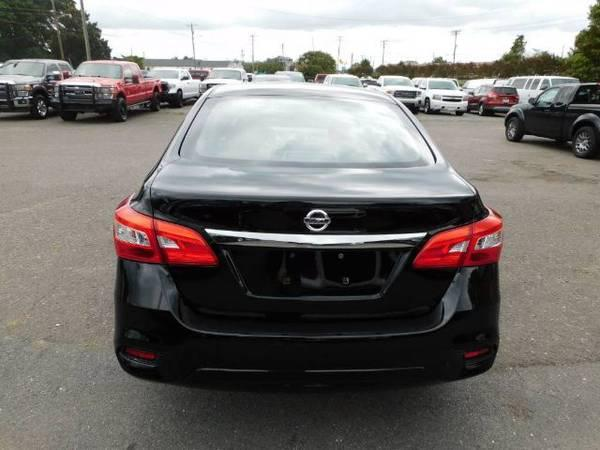Left_Taillight: (109, 192, 214, 266)
Rear_Bumper: (112, 258, 503, 396)
Rear_Windshield: (169, 95, 442, 169)
Right_Taillight: (408, 205, 505, 268)
Tailgate: (134, 157, 485, 323)
